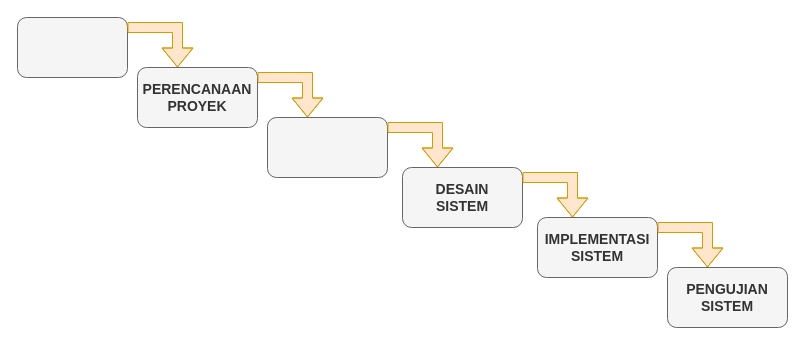
This 805x345 diagram has some shape labels left out. Here are the shapes that lost their labels. From the top down, the centre of each, then its label:
the point at 72,47: INISASI PROYEK
the point at 327,147: ANALISIS SISTEM
